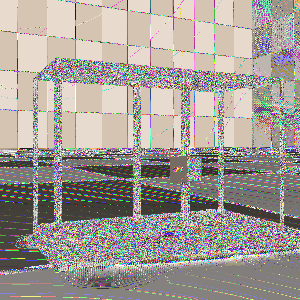Rack: (33, 55, 286, 273)
